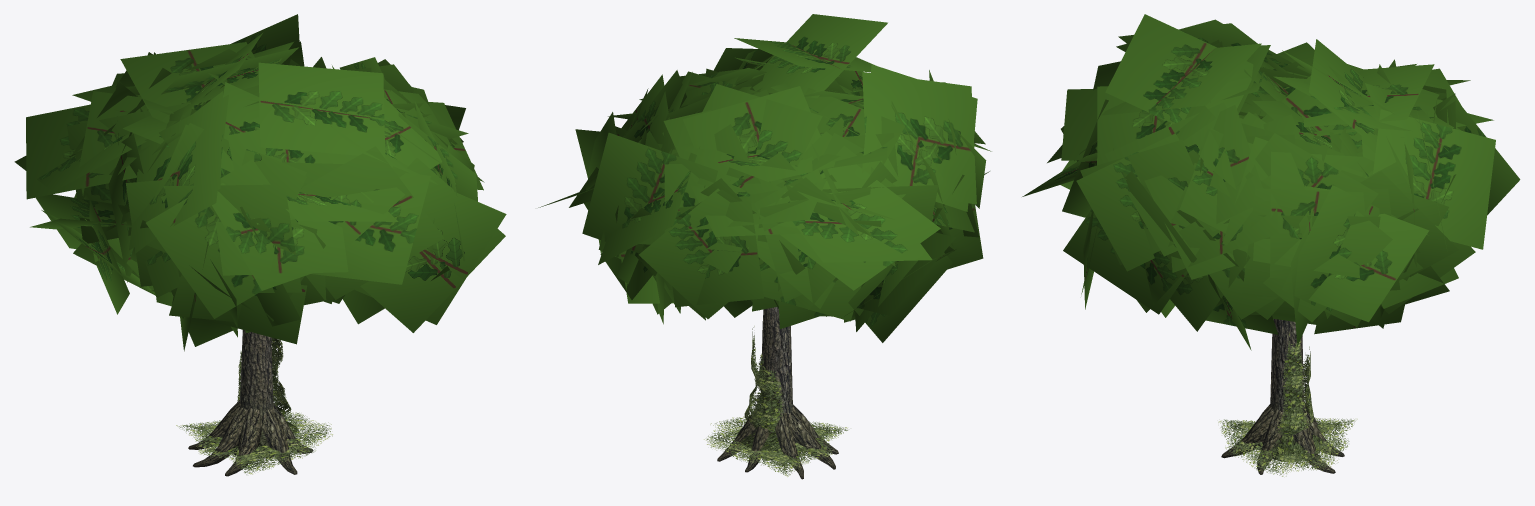
Rendered from tree_b_lod.glb.
3 renders of one model, left to right at view 1: azimuth 30°, elevation 25°; view 2: azimuth 150°, elevation 25°; view 3: azimuth 270°, elevation 25°, orthographic. The views are drawn at different scales.
Parts seen in each view (by area): view 1: Leaves, Roots, IvyGround, Trunk, IvyClimb; view 2: Leaves, Roots, IvyGround, IvyClimb, Trunk; view 3: Leaves, IvyGround, IvyClimb, Roots, Trunk.
Part boxes in pixels (x1,y1,x2,y2): Leaves: [14, 14, 506, 351]; Roots: [188, 400, 313, 476]; IvyGround: [176, 412, 332, 474]; Trunk: [232, 330, 274, 458]; IvyClimb: [237, 337, 299, 435]; Leaves: [538, 14, 991, 342]; Roots: [717, 404, 838, 479]; IvyGround: [704, 416, 847, 476]; IvyClimb: [737, 326, 783, 459]; Trunk: [761, 307, 801, 460]; Leaves: [1022, 14, 1520, 350]; IvyGround: [1218, 417, 1357, 476]; IvyClimb: [1269, 332, 1322, 462]; Roots: [1221, 404, 1344, 474]; Trunk: [1260, 319, 1303, 460].
Size of the model in its own units: 6.75 by 6.49 by 7.03.
3 materials, 3 textured.
